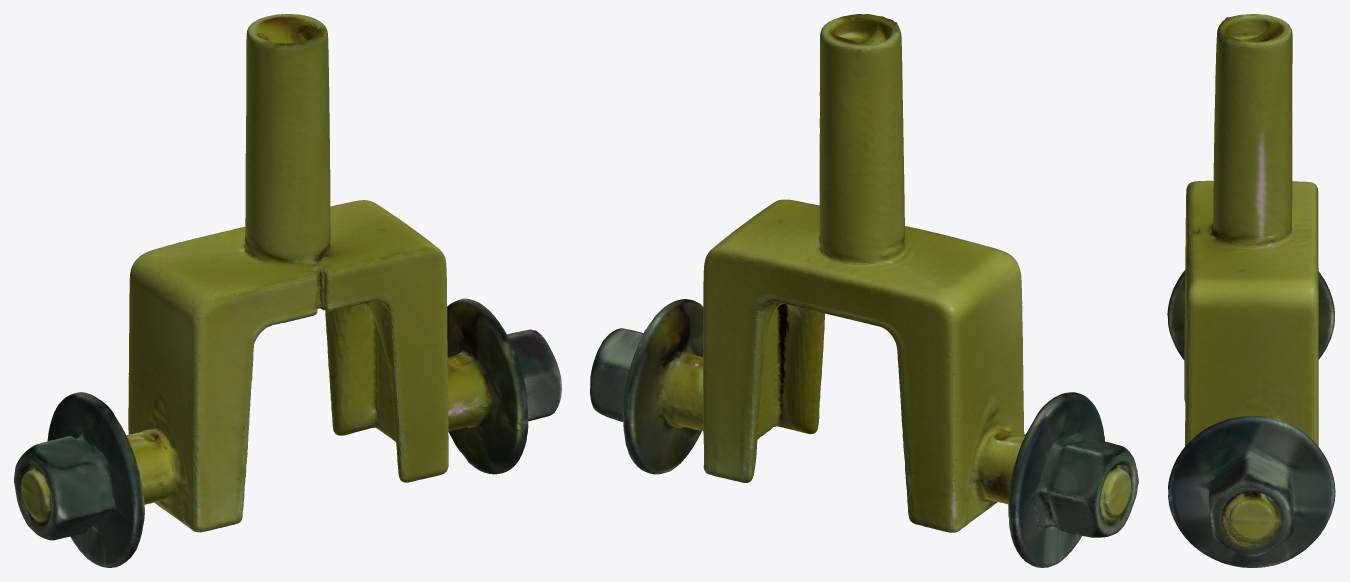
Rendered from nontextured_simplified.obj.
The picture shows the model from 3 angles, left to right: view 1: azimuth 30°, elevation 25°; view 2: azimuth 150°, elevation 25°; view 3: azimuth 270°, elevation 25°; orthographic projection. The views are drawn at different scales.
Visible parts, largest first — view 1: nontextured_simplified.ply; view 2: nontextured_simplified.ply; view 3: nontextured_simplified.ply.
Part boxes in pixels (left/top/right/bottom): nontextured_simplified.ply: left=14, top=14, right=561, bottom=567; nontextured_simplified.ply: left=590, top=14, right=1138, bottom=567; nontextured_simplified.ply: left=1167, top=14, right=1335, bottom=567.
Bounding box in the file's own units: 0.1234 × 0.1118 × 0.0376.
